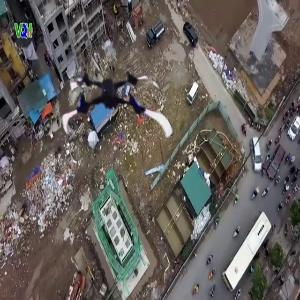drone: (56, 51, 167, 162)
